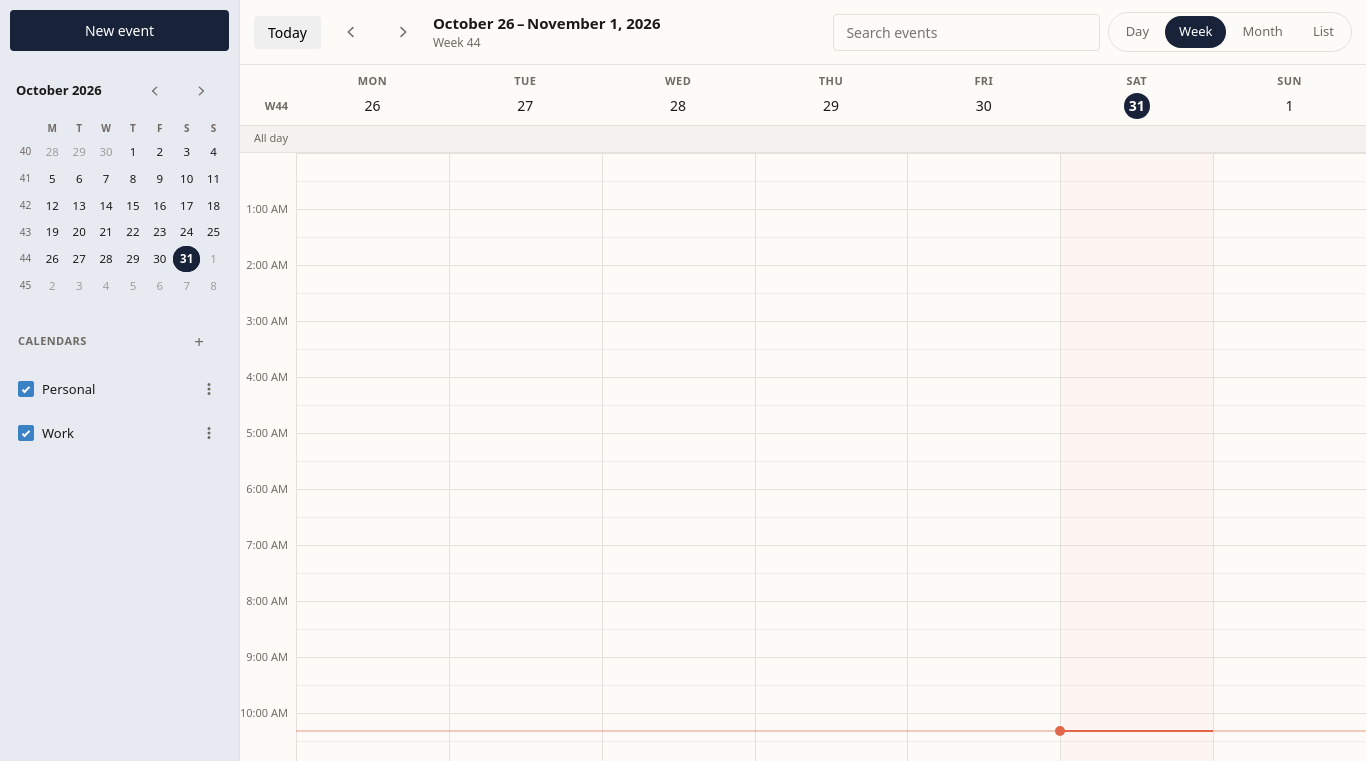
CalendarLayout — the calendars › deletes a calendar behind the shared confirm, handing focus to the grid column as its row goes
The width and height of the screenshot is (1366, 761).
What coordinates should you click on to do the following:
click the button named "Actions for Work"
I would click on:
 (209, 433)
Its box is [187,411,231,455].
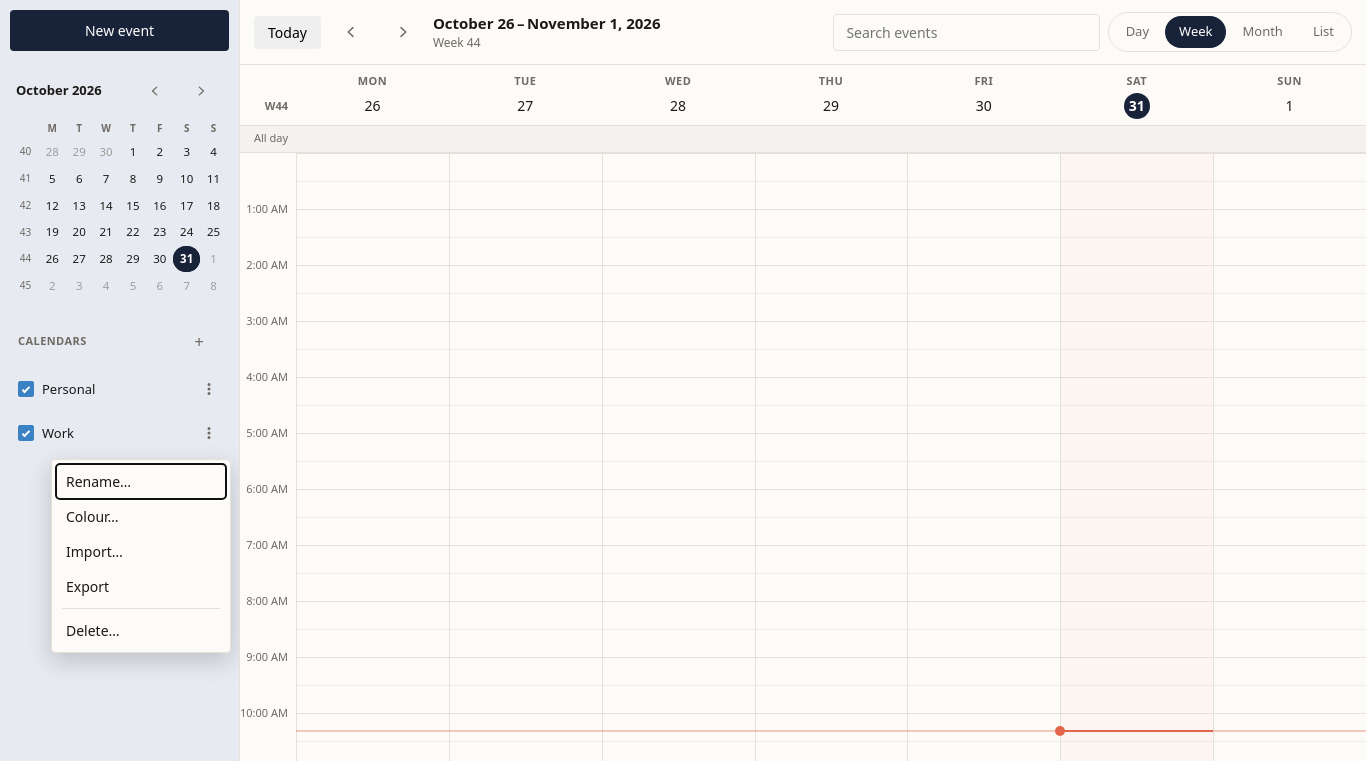
What coordinates should you click on to do the following:
click the menu item "Delete…"
I would click on:
 (141, 631)
Its box is [56,613,226,648].
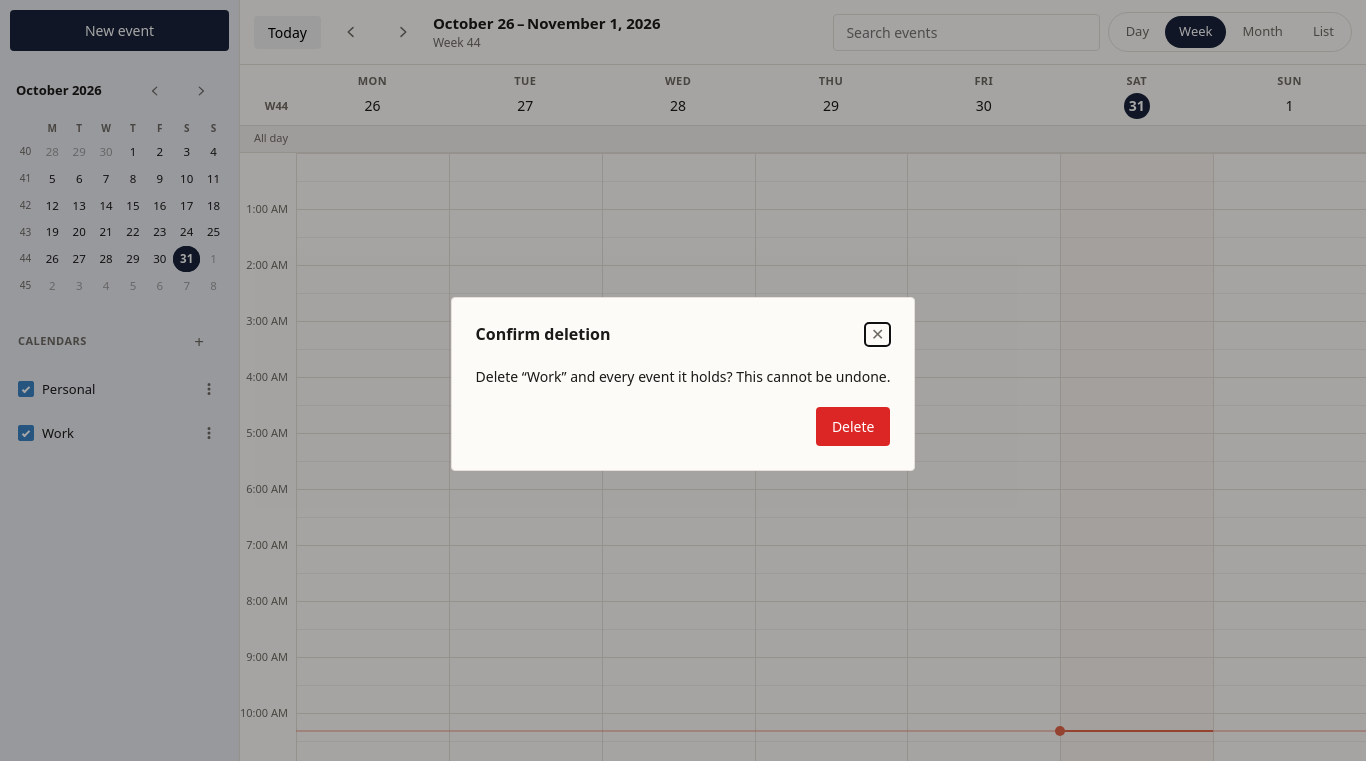
What coordinates should you click on to do the following:
click the button "Delete"
I would click on:
 (853, 426)
Its box is [816,407,890,446].
(page scrolled)
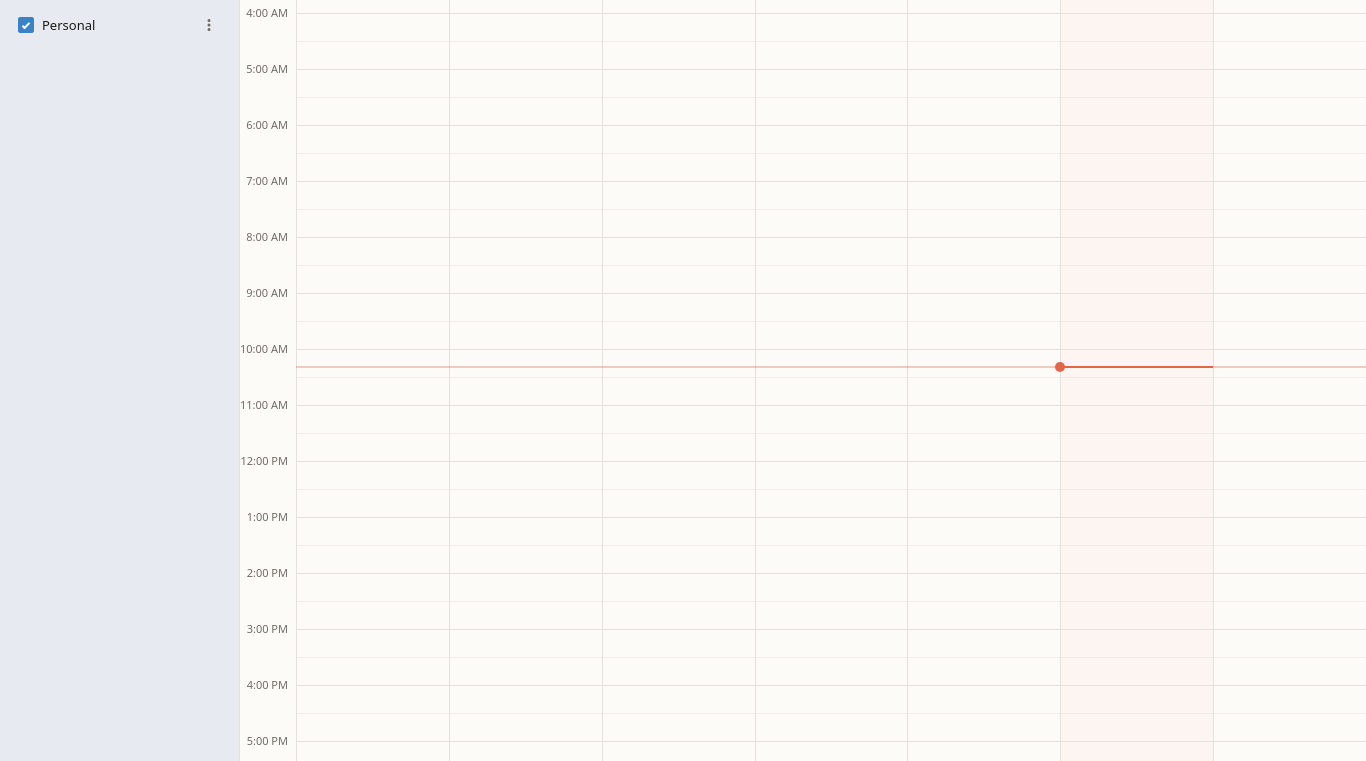
Now the checkbox labelled "Actions for Work" is gone
